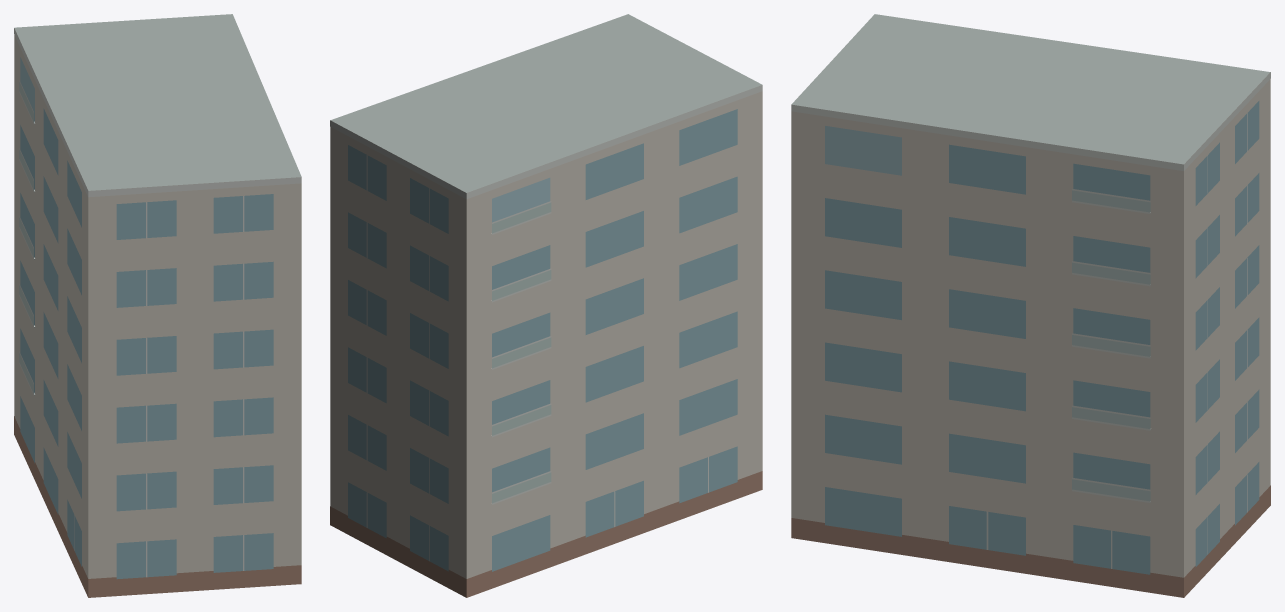
File: survey-upis-32953623.glb
3 renders of one model, left to right at view 1: azimuth 30°, elevation 25°; view 2: azimuth 150°, elevation 25°; view 3: azimuth 270°, elevation 25°, orthographic. The views are drawn at different scales.
Parts seen in each view (by area): view 1: survey-upis-32953623.tmp; view 2: survey-upis-32953623.tmp; view 3: survey-upis-32953623.tmp.
Part boxes in pixels (x1,y1,x2,y2): survey-upis-32953623.tmp: [14, 14, 301, 597]; survey-upis-32953623.tmp: [330, 14, 762, 597]; survey-upis-32953623.tmp: [791, 14, 1270, 597].
Size of the model in its own units: 11.74 by 15.75 by 15.8.
